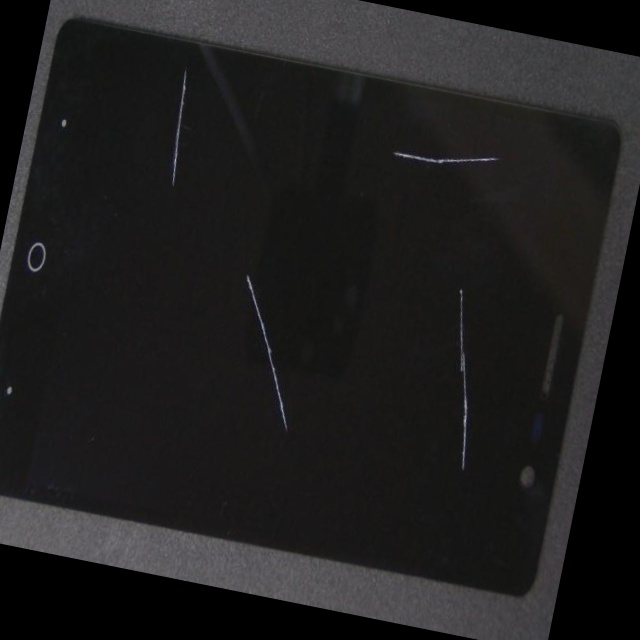scratch: (77, 0, 266, 186)
